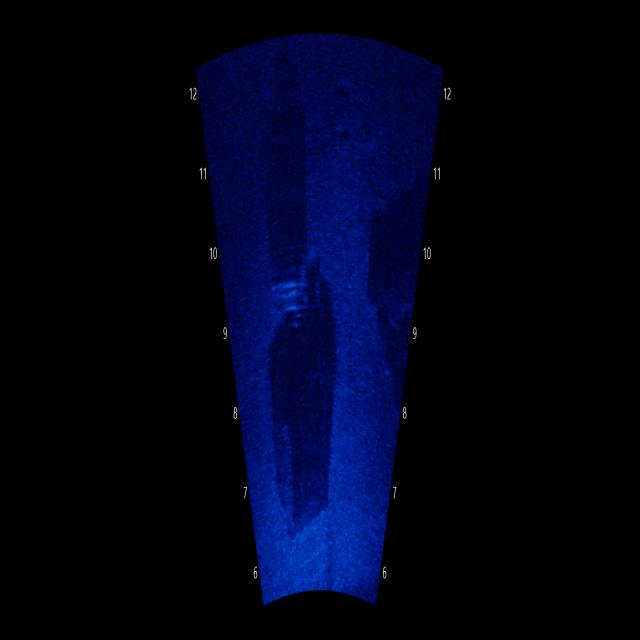square: (260, 285, 355, 576), (248, 76, 331, 306)
